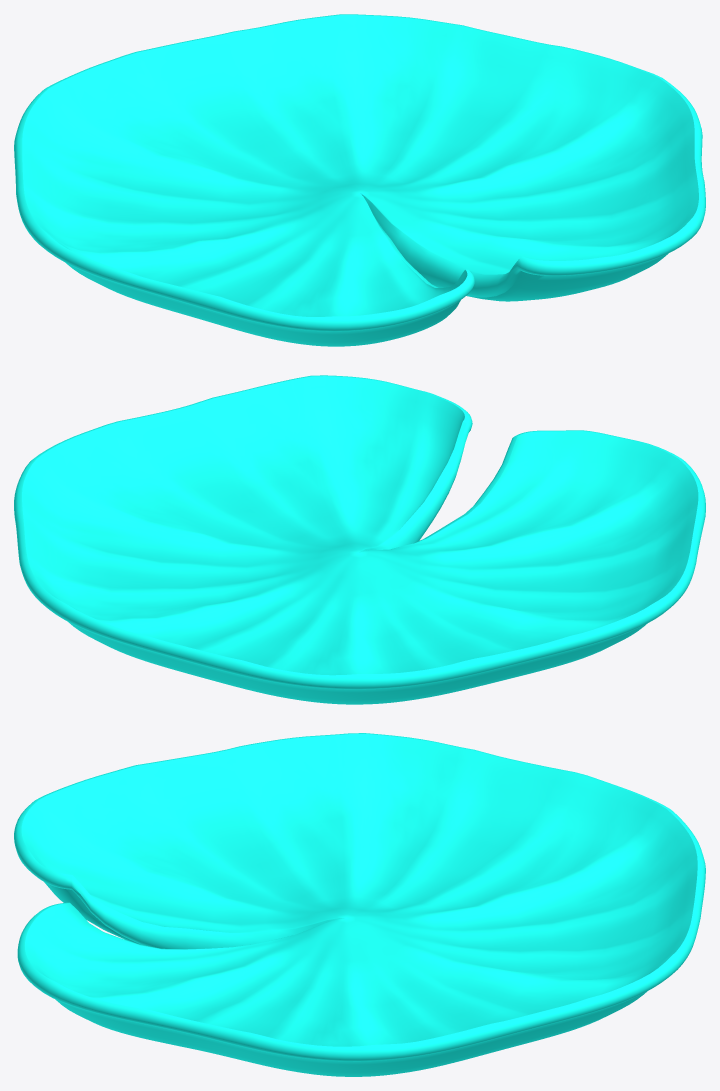
Rendered from LilyPad_Cyan.glb.
The picture shows the model from 3 angles, top to bottom: view 1: azimuth 30°, elevation 25°; view 2: azimuth 150°, elevation 25°; view 3: azimuth 270°, elevation 25°; orthographic projection. The views are drawn at different scales.
Parts seen in each view (by area): view 1: LilyPad_Cyan; view 2: LilyPad_Cyan; view 3: LilyPad_Cyan.
Boxes of the visible parts, box(x1,y1,x2,y2) form: LilyPad_Cyan: box(14, 14, 705, 346); LilyPad_Cyan: box(14, 375, 705, 704); LilyPad_Cyan: box(14, 733, 705, 1076).
Bounding box in the file's own units: 2 × 0.3388 × 1.84.
